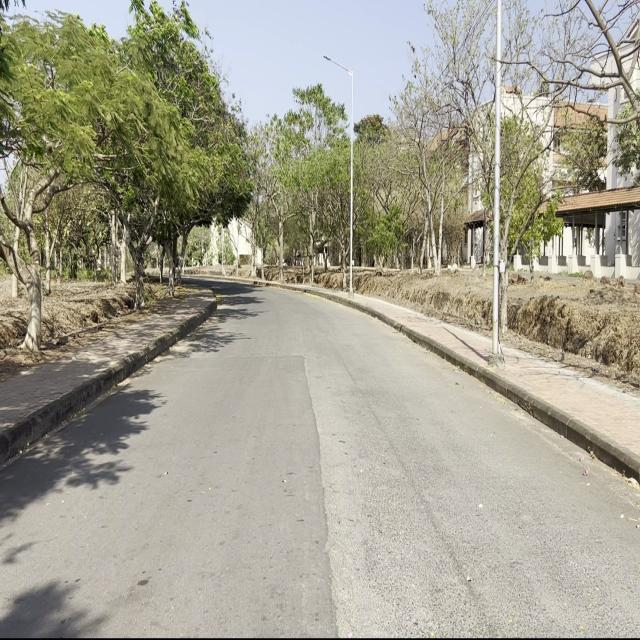Road: (0, 288, 640, 640)
